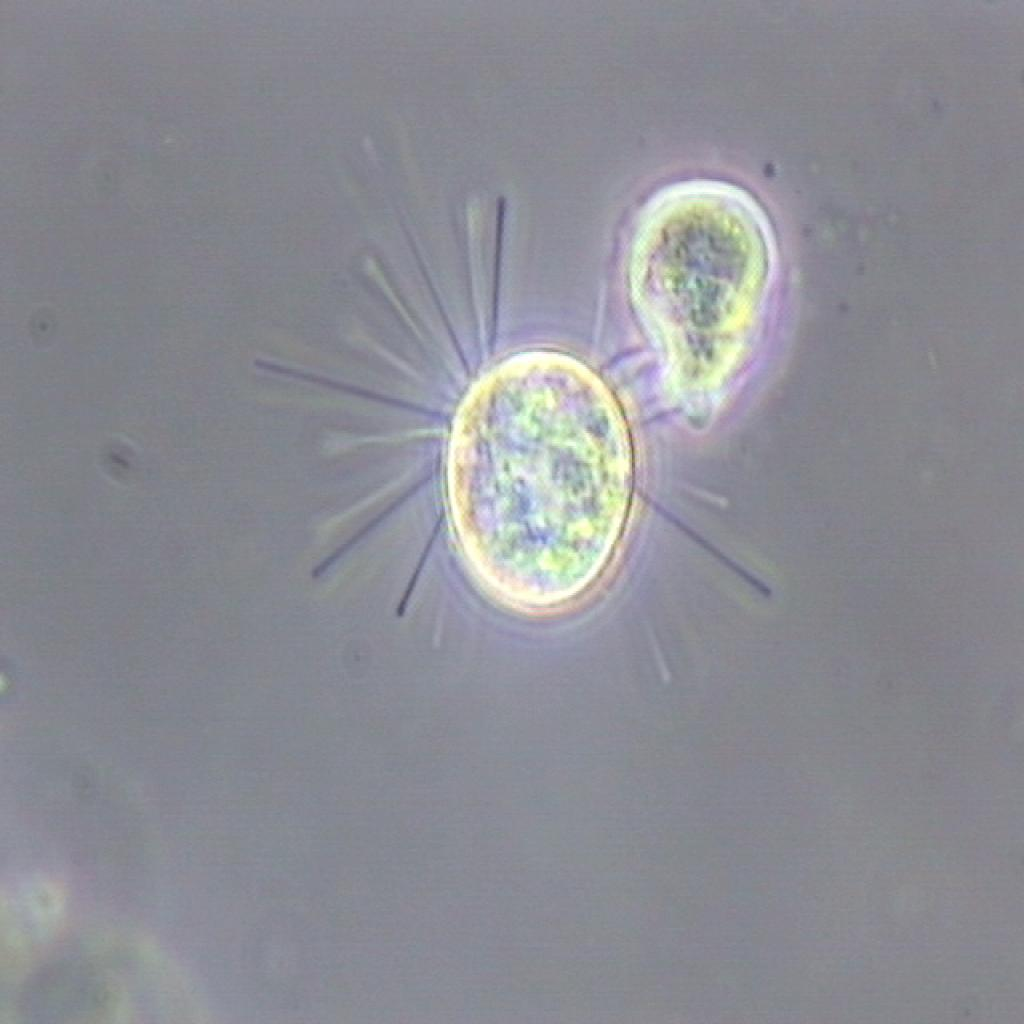Suctorida: (254, 235, 654, 757)
